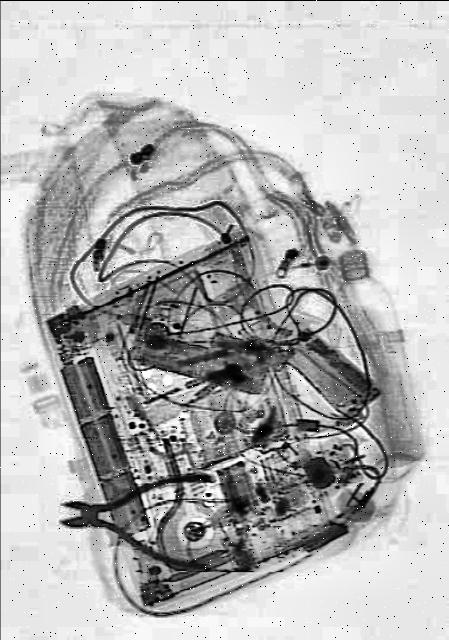Pliers: (57, 462, 213, 570)
